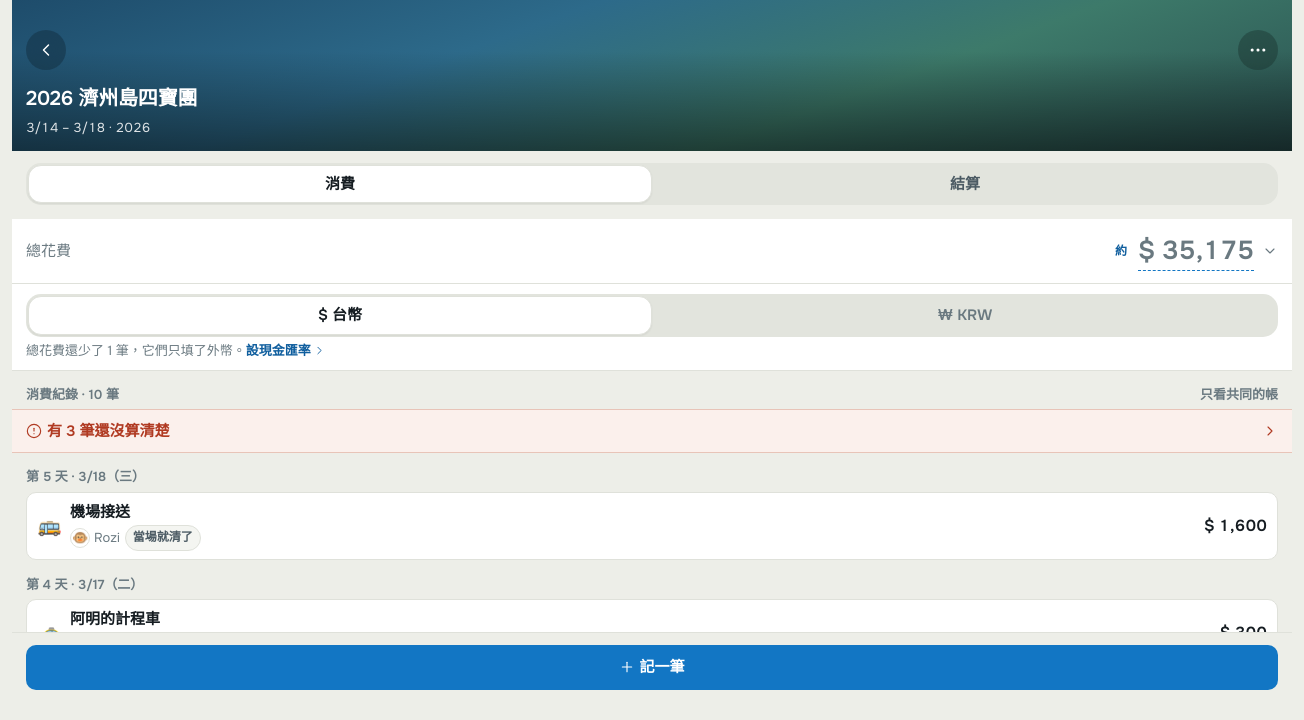
it: L-④　⋯ 是獨立頁面，不是彈層 › 按返回回到 S-03
Click the button named "更多" at (1258, 50), box [1238,30,1278,70]
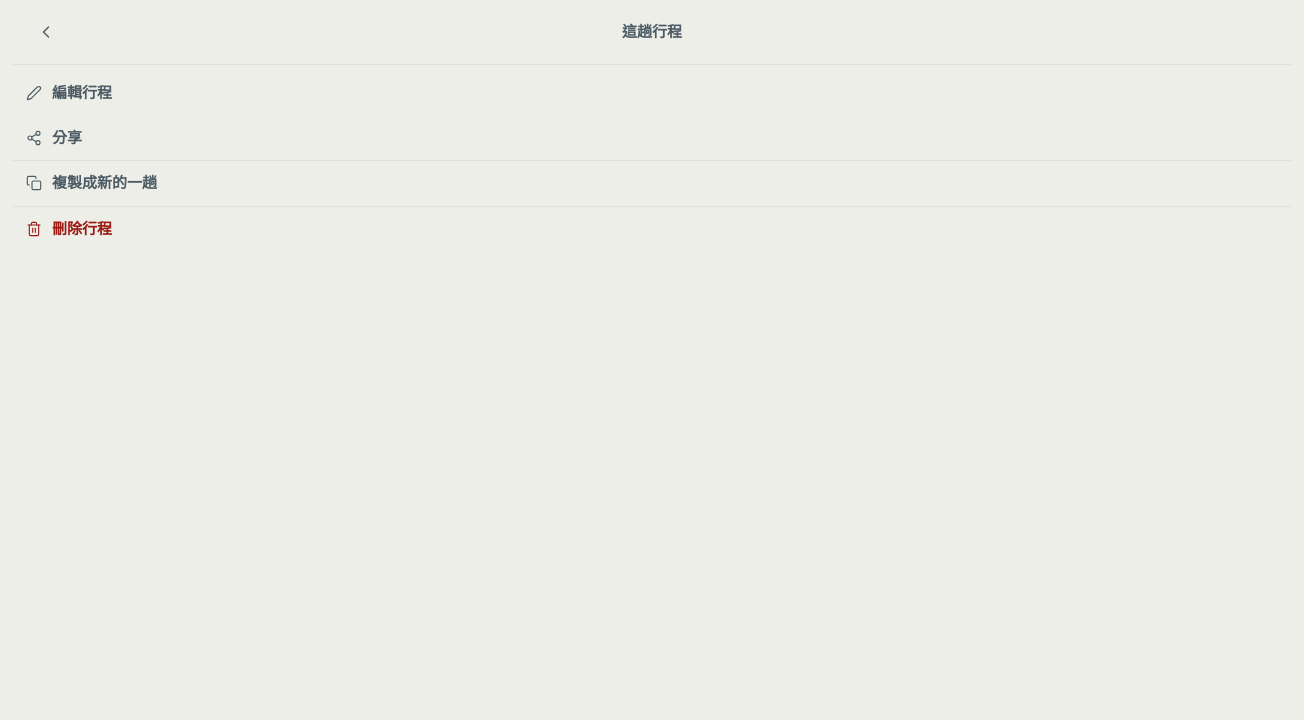
Check: the text "這趟行程" is shown, box [622,21,682,43]
Click the button named "返回" at (46, 32), box [26,12,66,52]
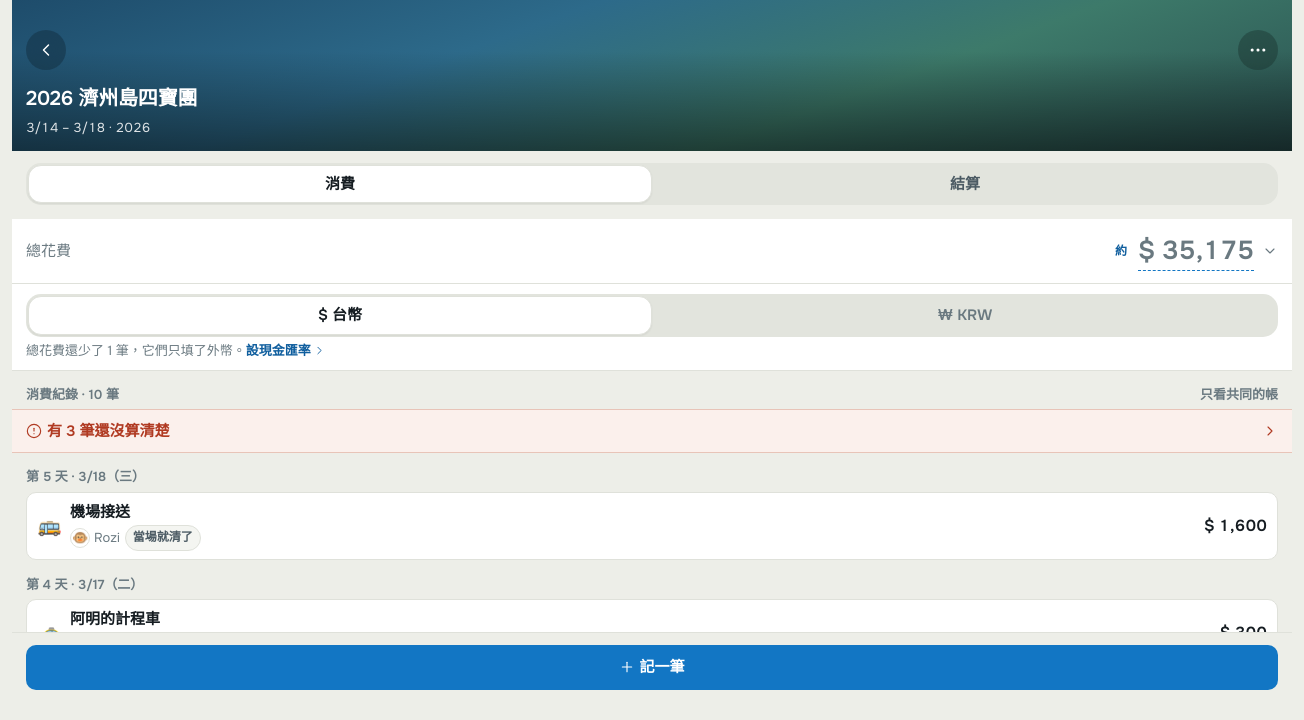
Check: the element with class "hero" is shown, box [12,0,1292,150]
